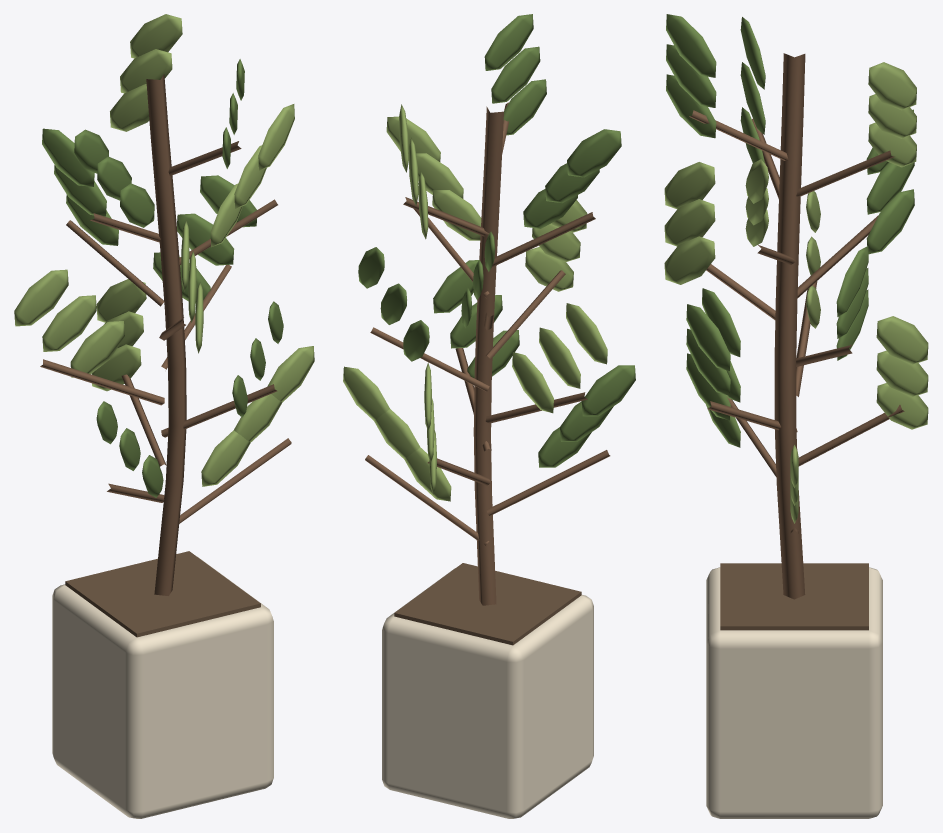
The model's file is living_ref_tree.glb.
3 renders of one model, left to right at view 1: azimuth 30°, elevation 25°; view 2: azimuth 150°, elevation 25°; view 3: azimuth 270°, elevation 25°, orthographic. The views are drawn at different scales.
Bounding box in the file's own units: 1.12 × 2.79 × 0.8524.
